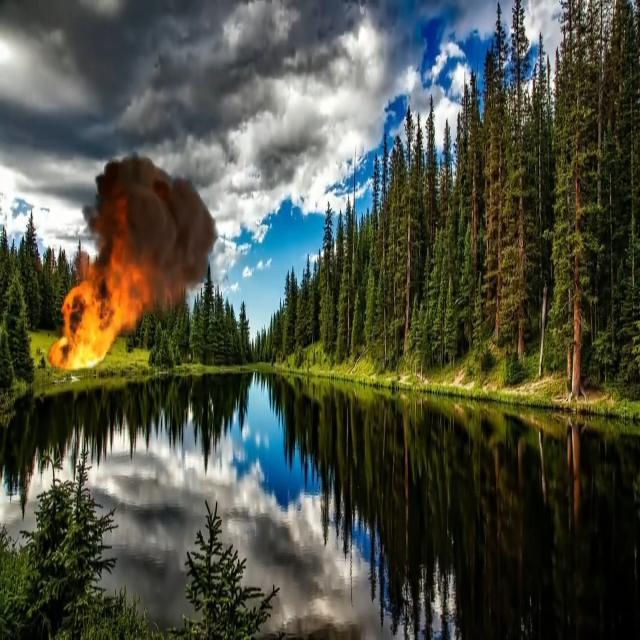Fire: (61, 264, 132, 372)
Smoke: (130, 169, 203, 258)
